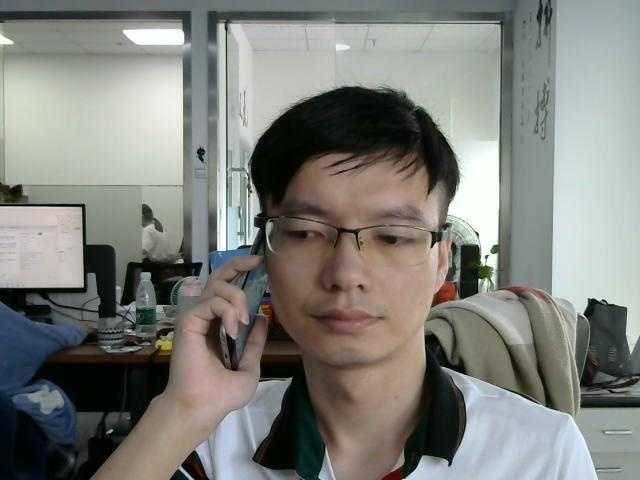hand: (164, 248, 267, 404)
